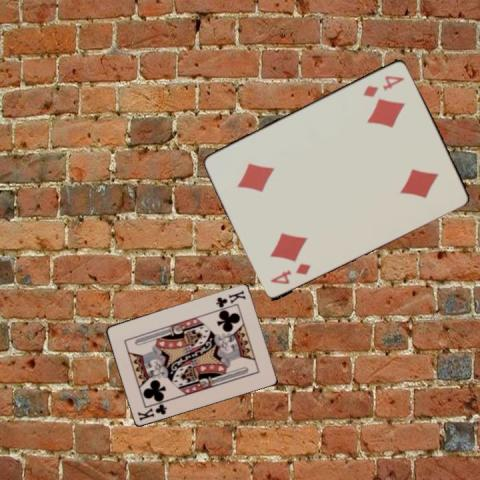4d: (360, 72, 406, 98), (267, 260, 312, 286)
Kc: (214, 287, 248, 309), (135, 401, 168, 422)
